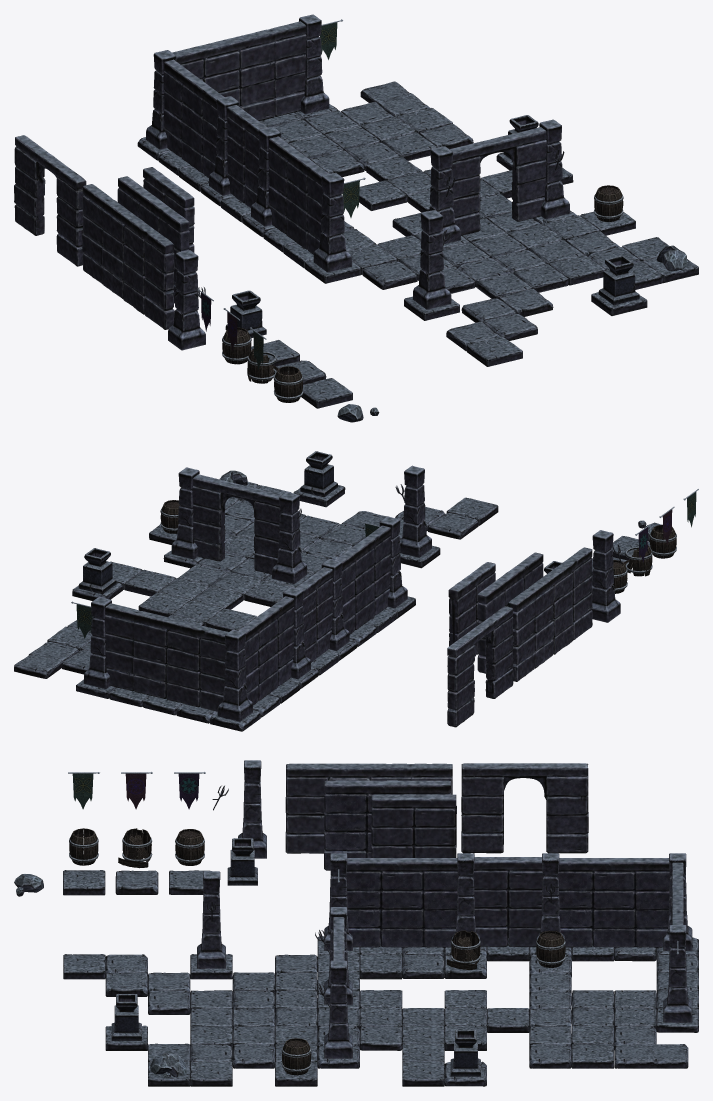
Rendered from modular_dungeon_kit.glb.
3 renders of one model, top to bottom at view 1: azimuth 30°, elevation 25°; view 2: azimuth 150°, elevation 25°; view 3: azimuth 270°, elevation 25°, orthographic. The views are drawn at different scales.
Parts seen in each view (by area): view 1: Wall3_01, Wall3_02, Wall4_02, Wall4_01, Wall2_02, Wall2_03, Wall_03, Wall2_01, Pillar_01, Pillar_04, Pillar_06, Pillar_03 (+55 smaller); view 2: Wall3_02, Wall3_01, Wall4_02, Wall4_01, Wall2_03, Wall2_02, Wall_03, Wall2_01, Wall_01, Pillar_08, Pillar_03, Pillar_06 (+43 smaller); view 3: Wall2_02, Wall2_03, Wall4_01, Wall_03, Wall3_01, Wall_01, Wall2_01, Pillar_02, Pillar_09, Pillar_06, Pillar_01, Pillar_05 (+80 smaller).
Part boxes in pixels (x1,y1,x2,y2): Wall3_01: (82, 184, 174, 329); Wall3_02: (172, 21, 306, 120); Wall4_02: (449, 127, 547, 235); Wall4_01: (14, 135, 86, 266); Wall2_02: (267, 136, 329, 254); Wall2_03: (163, 59, 224, 177); Wall_03: (226, 105, 267, 207); Wall2_01: (117, 176, 189, 303); Pillar_01: (168, 250, 205, 350); Pillar_04: (313, 172, 351, 272); Pillar_06: (413, 210, 451, 309); Pillar_03: (429, 146, 460, 243); Wall3_02: (102, 603, 228, 711); Wall3_01: (508, 547, 592, 681); Wall4_02: (191, 474, 281, 574); Wall4_01: (447, 606, 513, 727); Wall2_03: (238, 596, 294, 705); Wall2_02: (335, 525, 391, 634); Wall_03: (295, 567, 333, 662); Wall2_01: (477, 552, 543, 673); Wall_01: (448, 562, 495, 656); Pillar_08: (217, 629, 252, 721); Pillar_03: (272, 492, 306, 583); Pillar_06: (399, 465, 431, 557); Wall2_02: (339, 858, 458, 947); Wall2_03: (551, 858, 670, 947); Wall4_01: (461, 763, 588, 853); Wall_03: (467, 857, 548, 946); Wall3_01: (285, 763, 452, 853); Wall_01: (371, 794, 456, 857); Wall2_01: (324, 780, 450, 870); Pillar_02: (324, 960, 352, 1058); Pillar_09: (663, 925, 692, 1022); Pillar_06: (197, 871, 225, 968); Pillar_01: (238, 760, 266, 858); Pillar_05: (451, 853, 480, 940).
Size of the model in its own units: 3.72 by 0.734 by 4.61.
13 materials, 13 textured.
